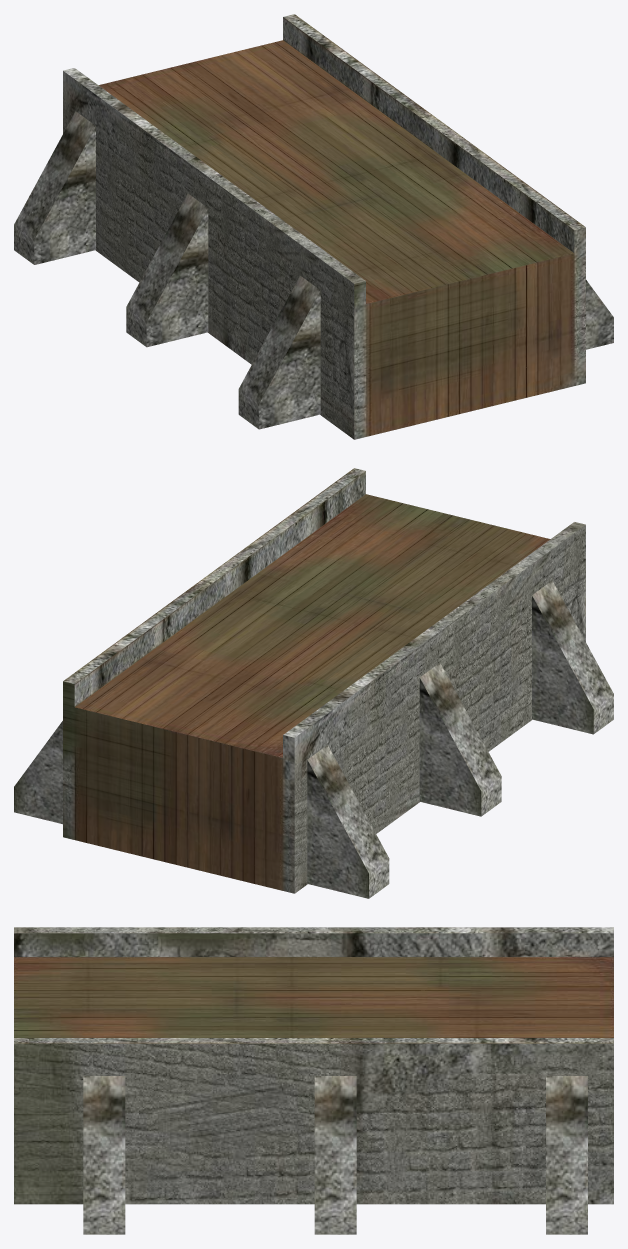
The model's file is Ponte1.fbx.
3 renders of one model, top to bottom at view 1: azimuth 30°, elevation 25°; view 2: azimuth 150°, elevation 25°; view 3: azimuth 270°, elevation 25°, orthographic. The views are drawn at different scales.
Visible parts, largest first — view 1: Ponte1; view 2: Ponte1; view 3: Ponte1.
Part boxes in pixels (x1=…): Ponte1: x1=14, y1=14, x2=613, y2=439; Ponte1: x1=14, y1=468, x2=613, y2=898; Ponte1: x1=14, y1=927, x2=613, y2=1234.
Size of the model in its own units: 1066 by 1516 by 448.
